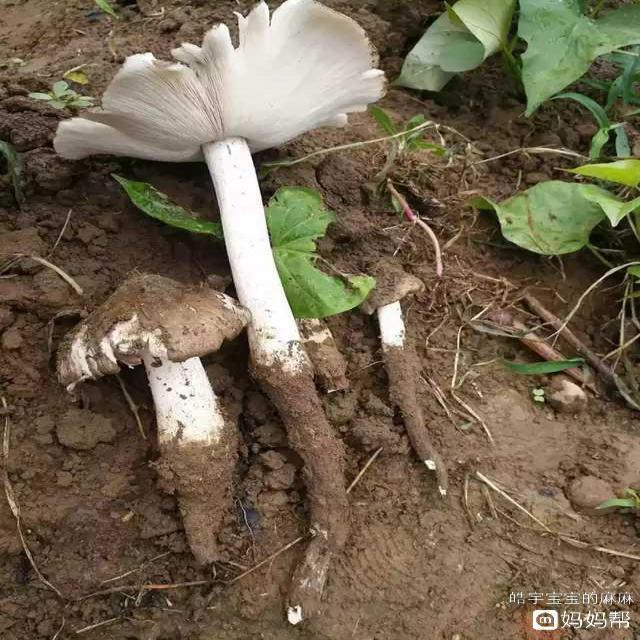Collybia albuminosa: (51, 3, 382, 629), (58, 271, 255, 568), (361, 263, 446, 495)
